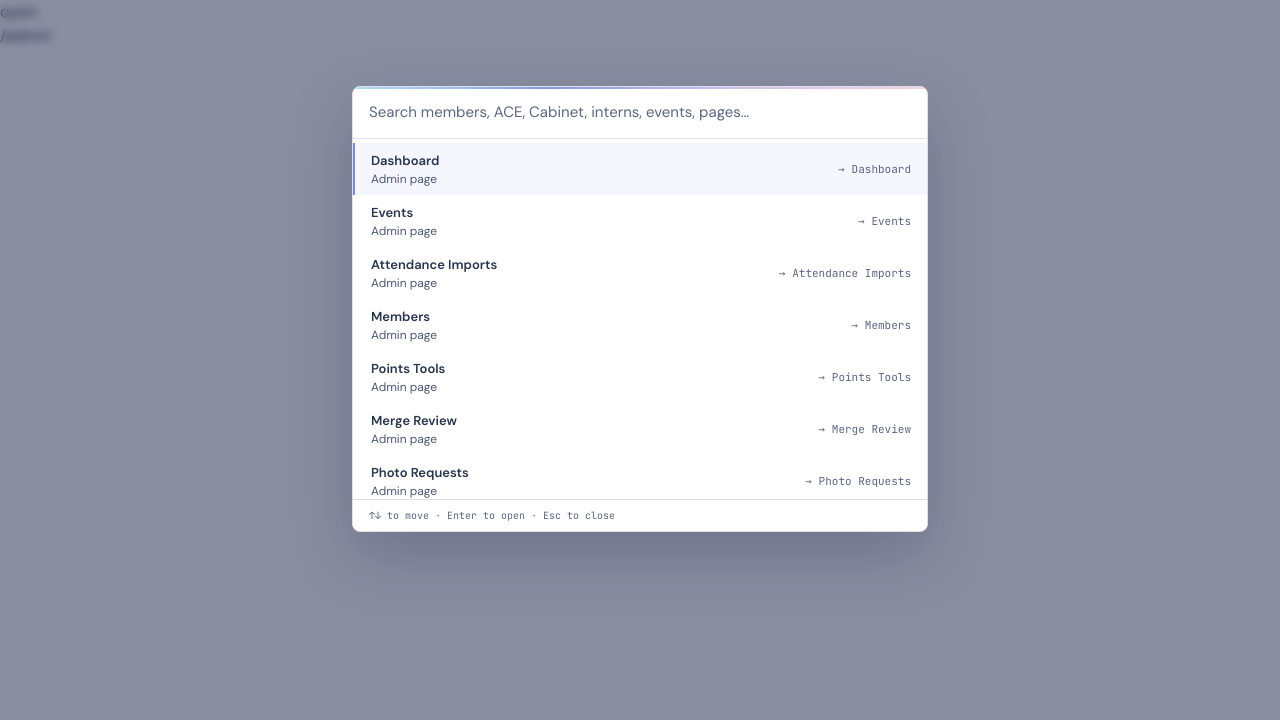
Test: AdminQuickSearch › moves with the arrow keys to the ACE record
Type "havyn" into the dropdown named "Search admin" at x=640, y=113, box [353,87,927,139]
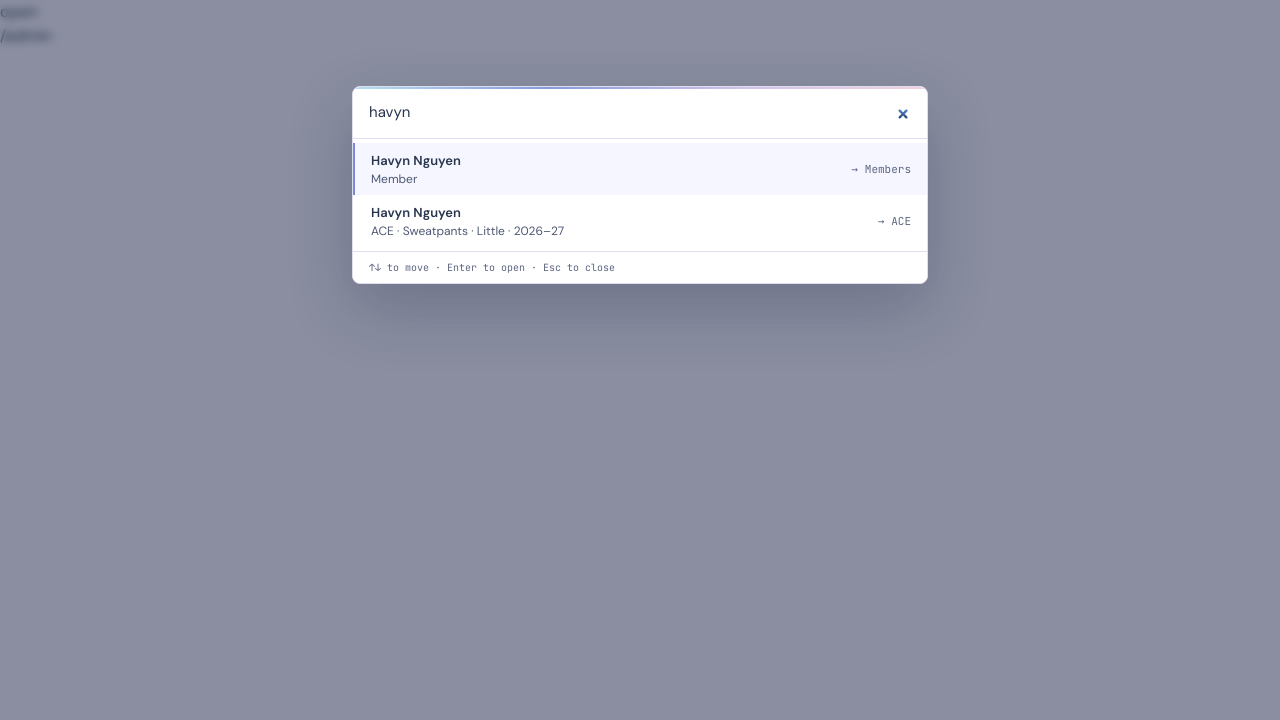
Press ArrowDown in the dropdown named "Search admin", box [353,87,927,139]
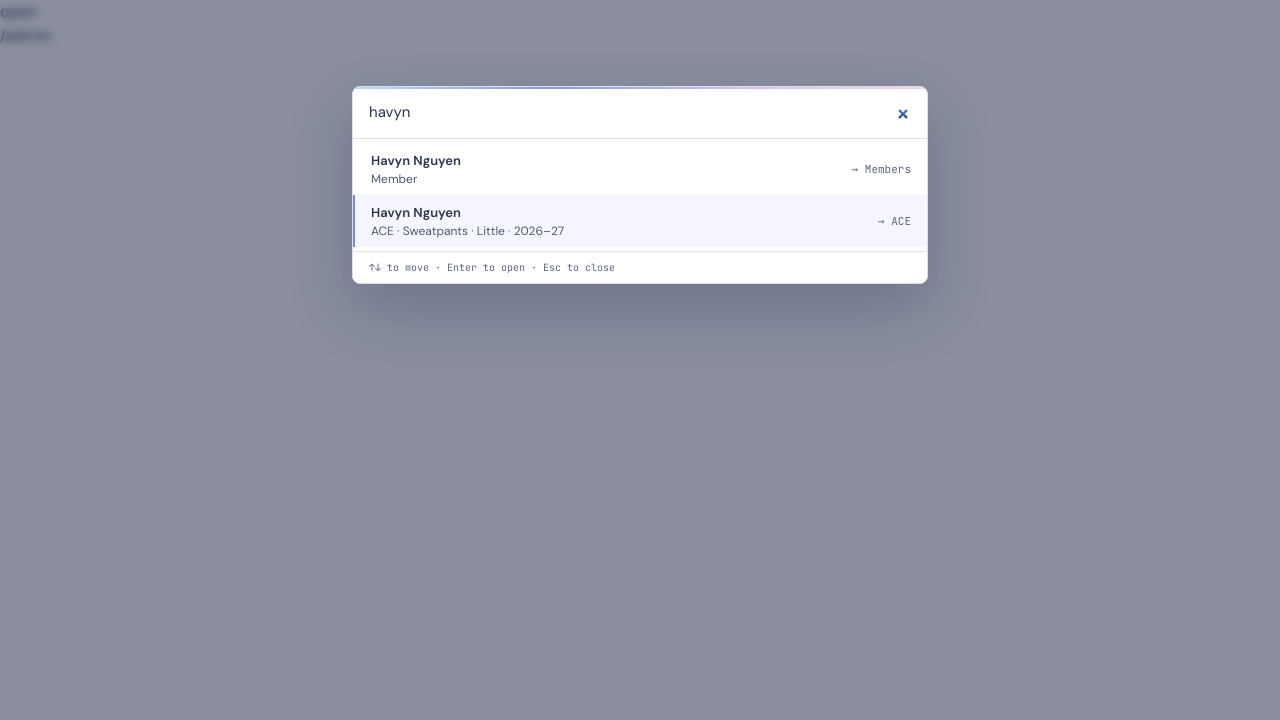
Press Enter in the dropdown named "Search admin", box [353,87,927,139]
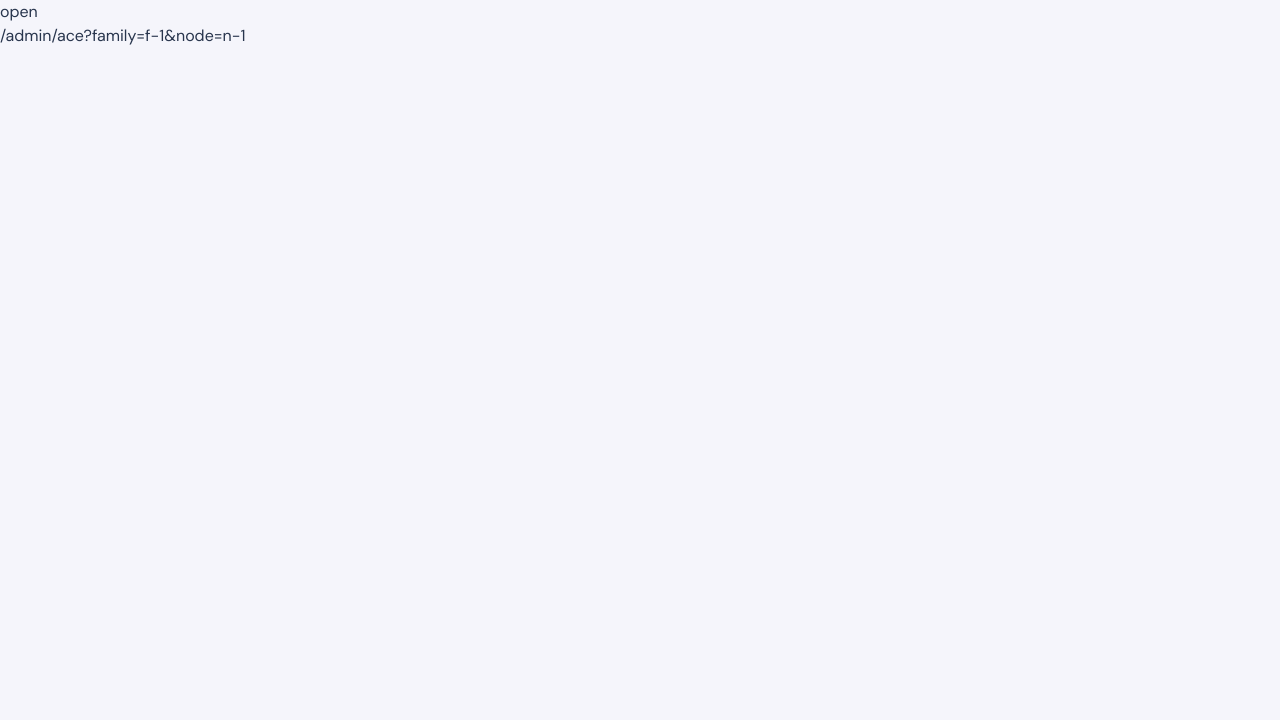
Expected: the text with test id "where" reads "/admin/ace?family=f-1&node=n-1", [0,25,245,46]
